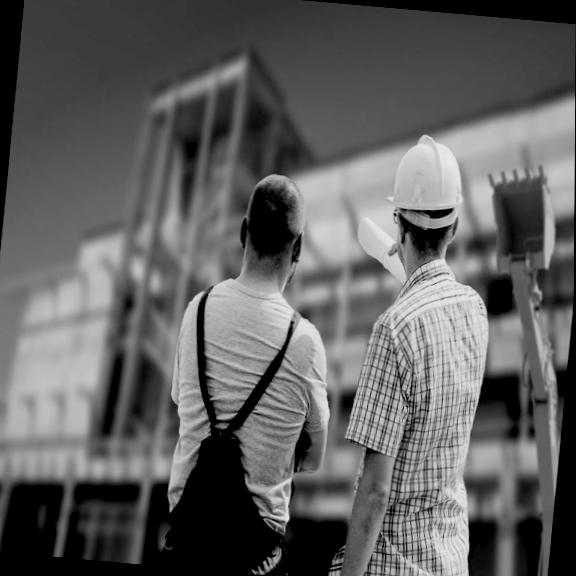no_safety_vest: (163, 268, 319, 526), (349, 253, 494, 525)
